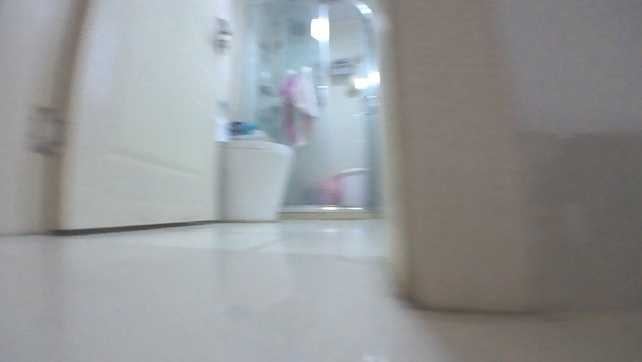toilet: (218, 137, 293, 222)
